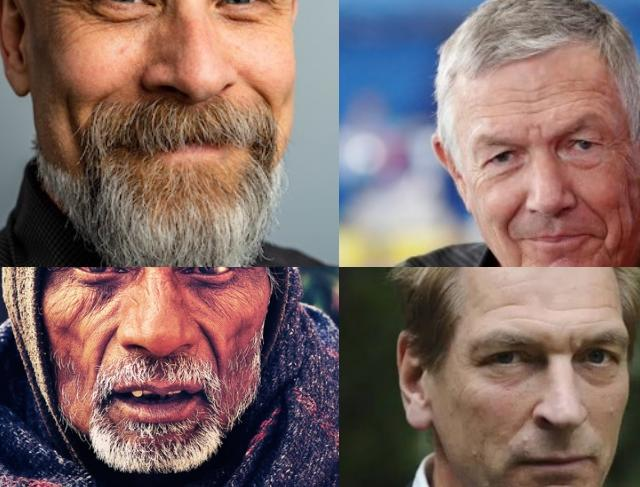chin: (512, 250, 530, 267), (537, 479, 574, 487)
crows_feet: (53, 0, 88, 17), (466, 163, 486, 186), (604, 130, 622, 152), (271, 0, 287, 21)
forehead: (511, 84, 549, 118), (566, 77, 608, 99), (488, 294, 518, 314), (580, 300, 618, 314), (474, 94, 506, 110)
frown_line: (522, 120, 546, 140), (564, 332, 578, 356)
gummy_smile: (198, 326, 224, 368), (242, 72, 272, 108), (90, 330, 116, 368), (86, 86, 116, 114), (584, 198, 612, 228), (499, 204, 525, 236)
masseter: (63, 94, 79, 142), (612, 203, 630, 241)
sad_smile: (593, 232, 615, 262)
